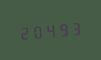four: (44, 20, 56, 39)
nine: (57, 19, 69, 38)
three: (70, 18, 82, 37)
two: (18, 22, 30, 41)
zero: (31, 21, 43, 40)
